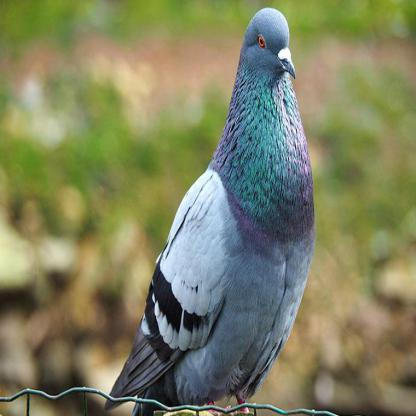Flying Rat: (96, 6, 316, 414)
